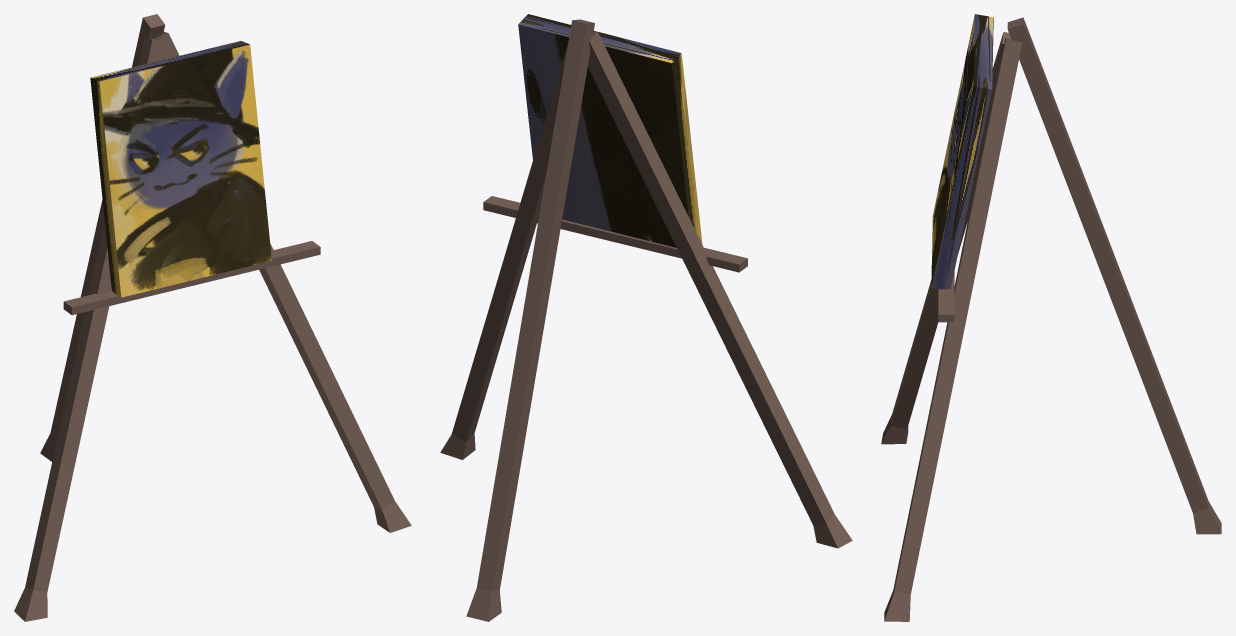
The model's file is easel.fbx.
The picture shows the model from 3 angles, left to right: view 1: azimuth 30°, elevation 25°; view 2: azimuth 150°, elevation 25°; view 3: azimuth 270°, elevation 25°; orthographic projection. The views are drawn at different scales.
Parts seen in each view (by area): view 1: Cube, Cube.004; view 2: Cube.004, Cube; view 3: Cube.004, Cube.
Boxes of the visible parts, bbox=[...] form: Cube: bbox=[90, 41, 271, 297]; Cube.004: bbox=[14, 14, 411, 621]; Cube.004: bbox=[440, 19, 852, 621]; Cube: bbox=[518, 14, 702, 247]; Cube.004: bbox=[881, 17, 1221, 621]; Cube: bbox=[931, 14, 993, 289].
Bounding box in the file's own units: 487 × 610 × 370.
